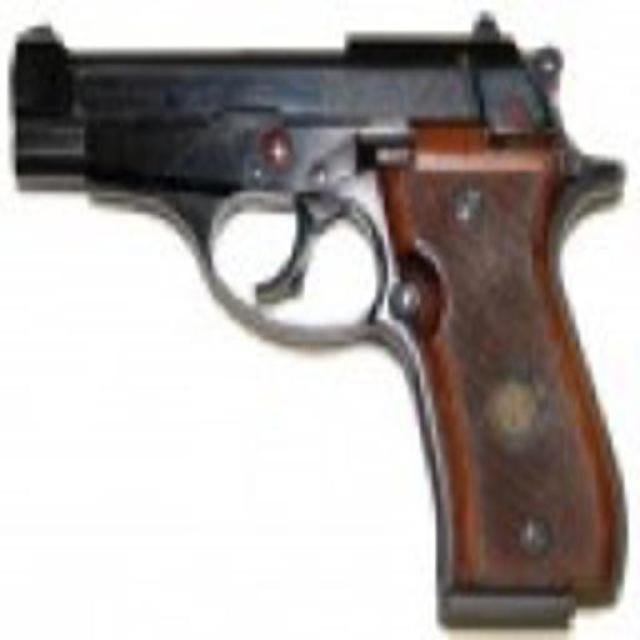pistol: (7, 5, 627, 634)
